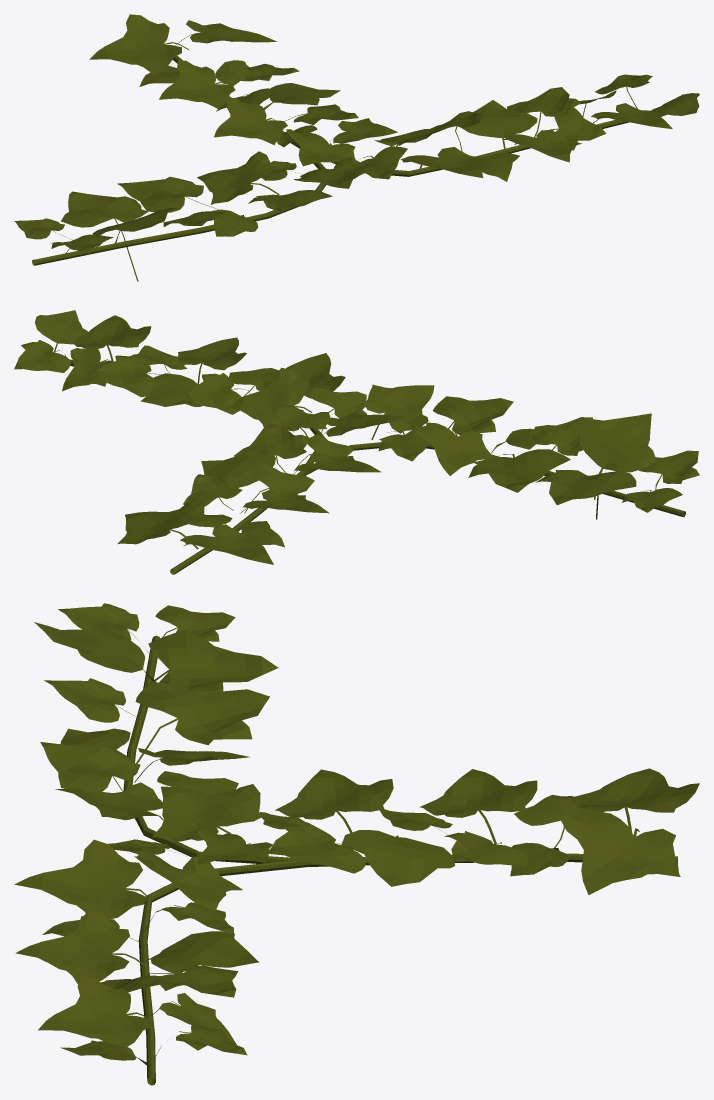
Rendered from Tivy.fbx.
3 renders of one model, top to bottom at view 1: azimuth 30°, elevation 25°; view 2: azimuth 150°, elevation 25°; view 3: azimuth 270°, elevation 25°, orthographic. The views are drawn at different scales.
Visible parts, largest first — view 1: 5d1ae7b5be2c2177040312.020; view 2: 5d1ae7b5be2c2177040312.020; view 3: 5d1ae7b5be2c2177040312.020.
Boxes of the visible parts, bbox=[...] form: 5d1ae7b5be2c2177040312.020: bbox=[14, 14, 699, 281]; 5d1ae7b5be2c2177040312.020: bbox=[14, 310, 699, 574]; 5d1ae7b5be2c2177040312.020: bbox=[14, 603, 699, 1085].
Bounding box in the file's own units: 211 × 26.01 × 134.
